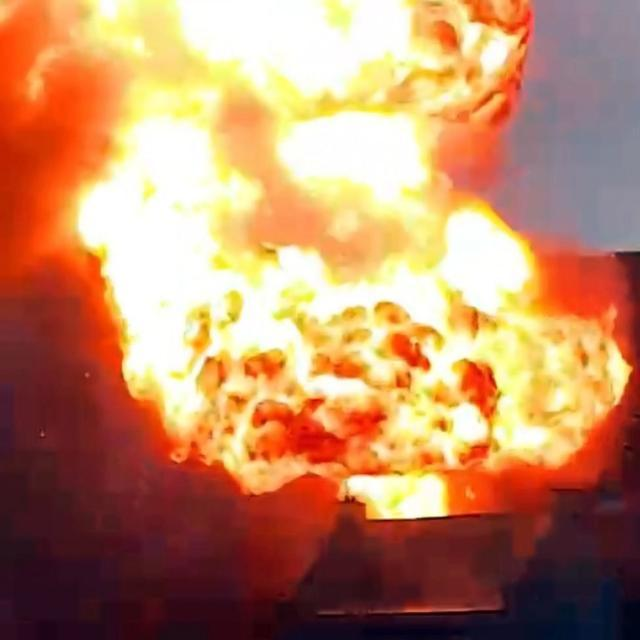fire: (62, 1, 597, 458)
